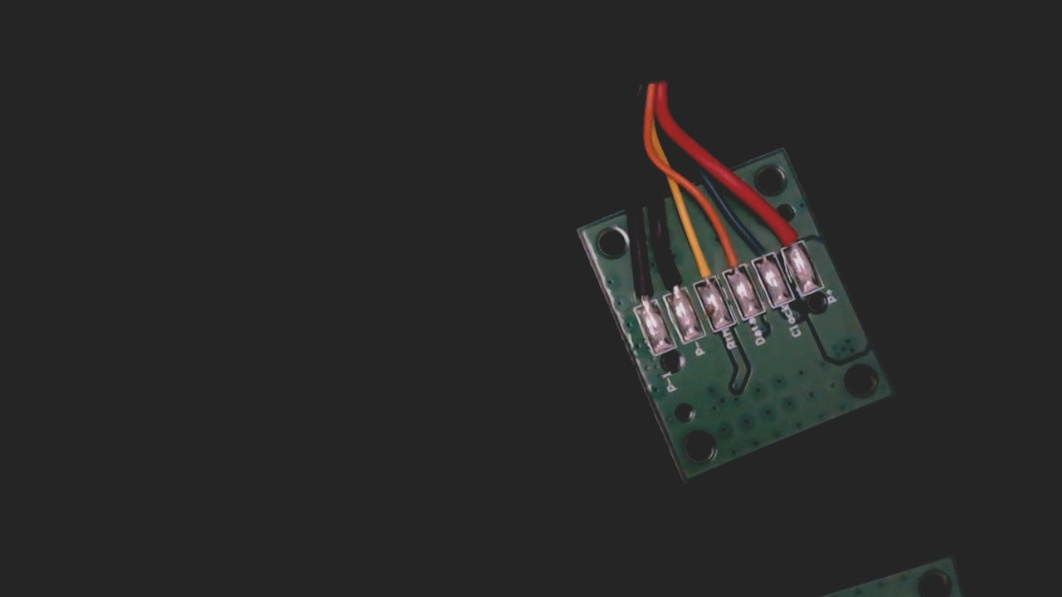Black: (648, 246, 691, 306)
Black1: (619, 261, 662, 319)
Green: (739, 220, 780, 273)
Orange: (714, 238, 750, 282)
Red: (766, 204, 807, 259)
Yellow: (680, 238, 725, 296)
